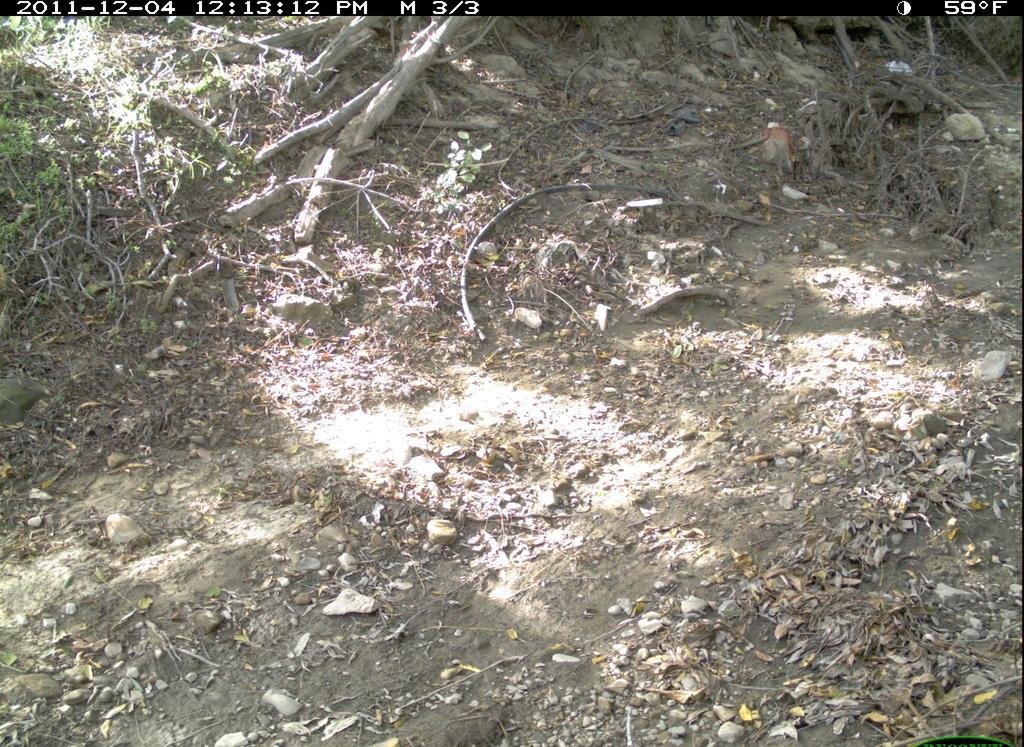dog: (756, 120, 799, 178)
